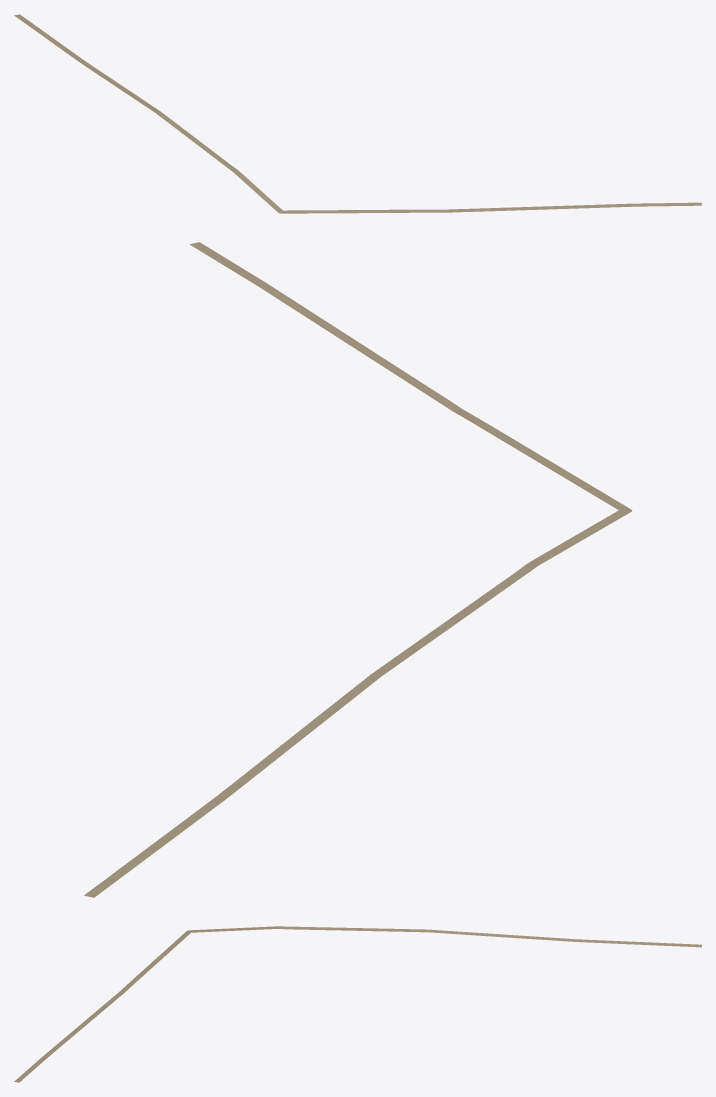
The model's file is farm_13_8_track.glb.
3 views of the same model, one above another, from view 1: azimuth 30°, elevation 25°; view 2: azimuth 150°, elevation 25°; view 3: azimuth 270°, elevation 25° (orthographic). The views are drawn at different scales.
Visible parts, largest first — view 1: geometry_0; view 2: geometry_0; view 3: geometry_0.
Part boxes in pixels (box(x1,y1,x2,y2)): geometry_0: box(14, 14, 701, 213); geometry_0: box(84, 242, 632, 897); geometry_0: box(14, 926, 701, 1082).
Bounding box in the file's own units: 190 × 8.07 × 370.
